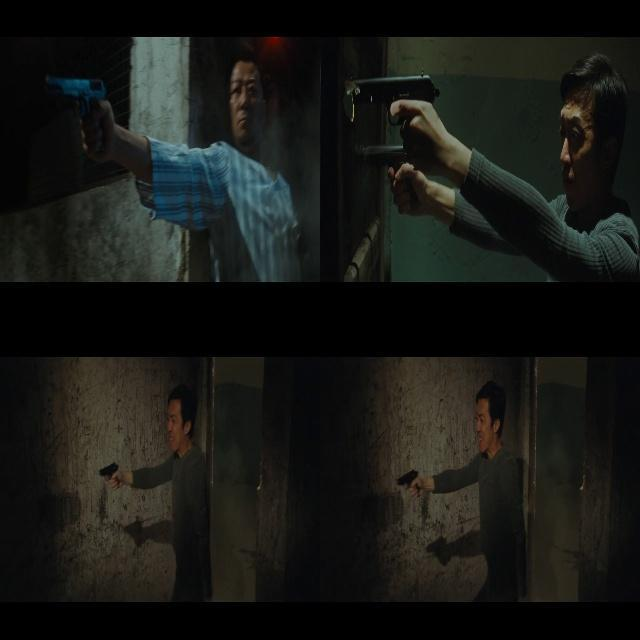gun-knife-thesis - v11 Yolov5 augmented: (348, 65, 440, 177), (42, 68, 109, 154), (357, 137, 417, 211), (395, 467, 421, 498), (97, 460, 120, 489)
